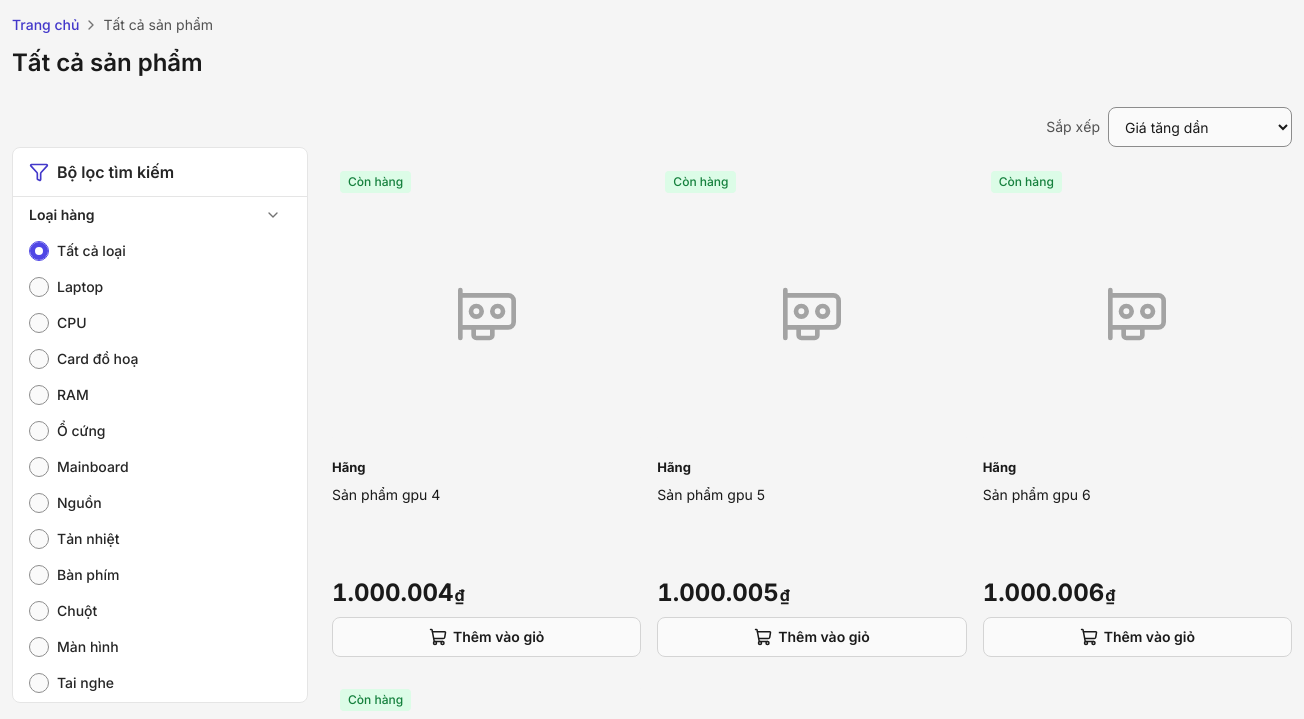
Scenario: ProductListPage › đổi loại ở cột lọc khi đang ở trang 2: về trang 1 của loại đó, giữ cách sắp xếp
This screenshot has width=1304, height=719.
Step 1. Click the text "Chuột" → click(77, 611), box [57,601,97,621]
(page scrolled)
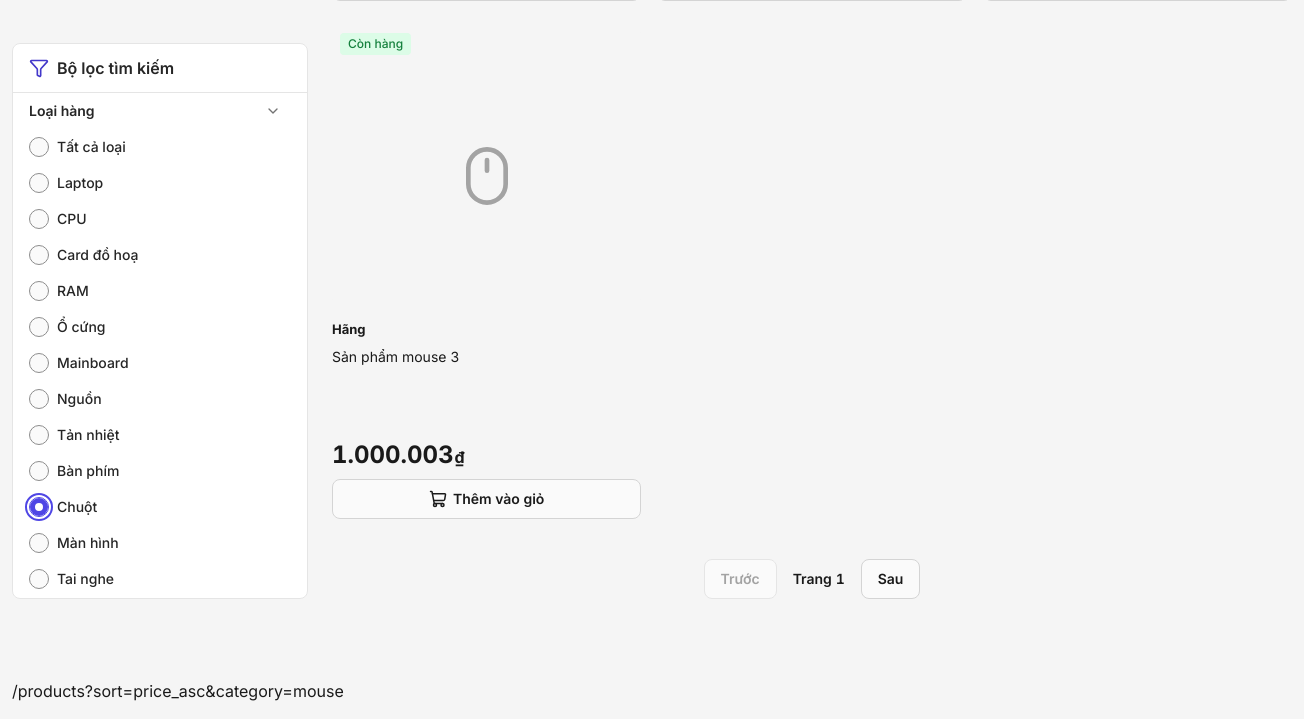
Now the text with test id "url" reads "/products?sort=price_asc&category=mouse", box [12,681,344,701]
